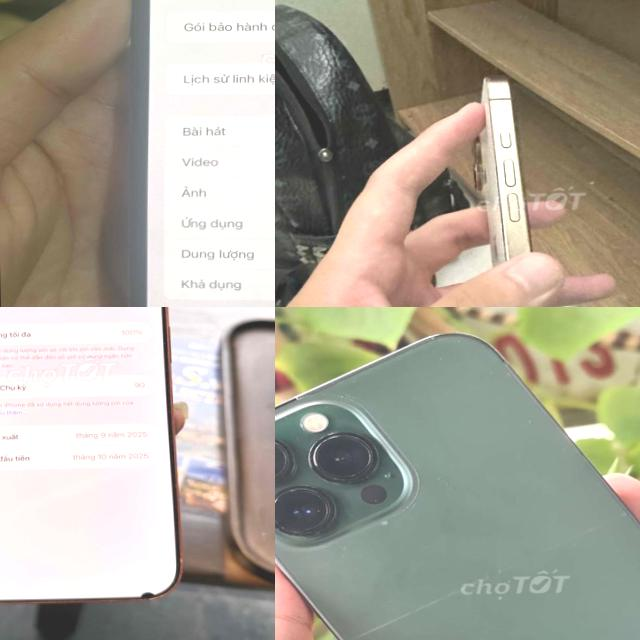scratch: (282, 509, 640, 640)
